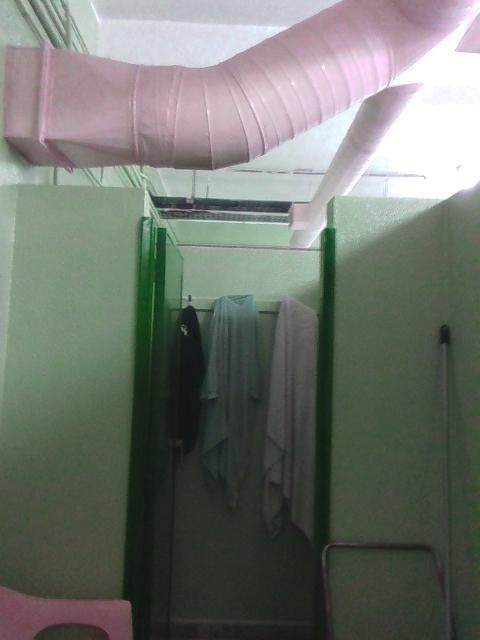open_door: (123, 228, 334, 597)
